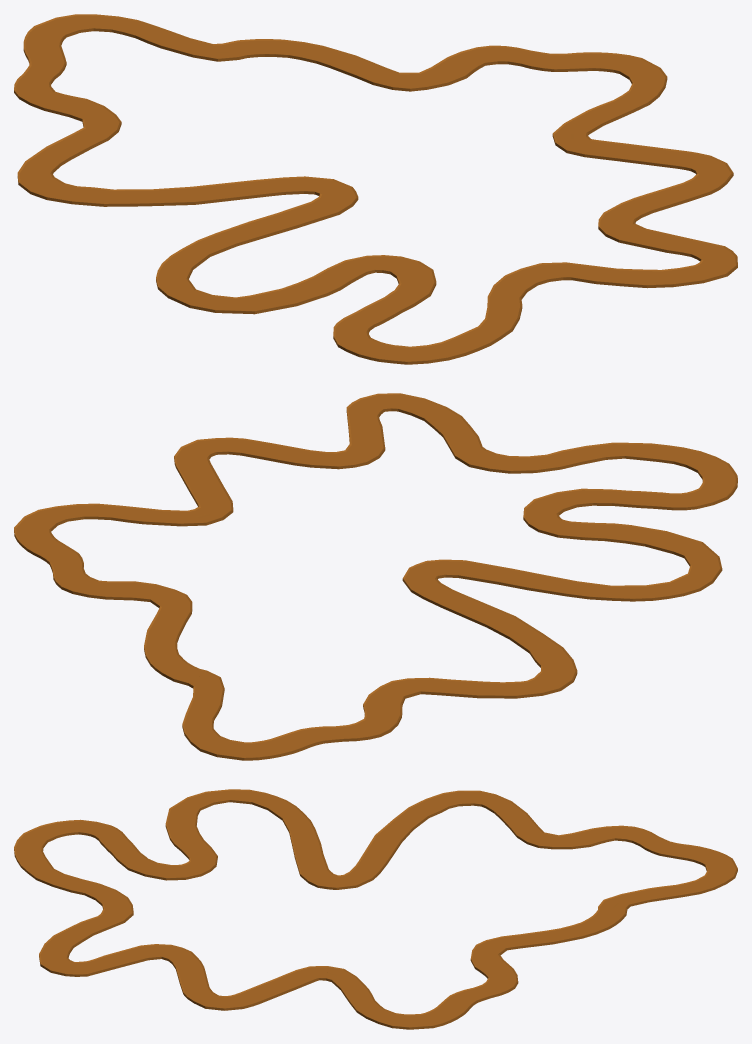
File: pista inteira.fbx
3 views of the same model, one above another, from view 1: azimuth 30°, elevation 25°; view 2: azimuth 150°, elevation 25°; view 3: azimuth 270°, elevation 25° (orthographic). The views are drawn at different scales.
Parts seen in each view (by area): view 1: pista parte 3, pista parte 1, pista parte 4, pista parte 2; view 2: pista parte 3, pista parte 1, pista parte 2, pista parte 4; view 3: pista parte 3, pista parte 1, pista parte 4, pista parte 2.
Boxes of the visible parts, box(x1,y1,x2,y2) form: pista parte 3: box(156, 187, 563, 364); pista parte 1: box(14, 14, 351, 206); pista parte 4: box(541, 136, 737, 288); pista parte 2: box(222, 39, 667, 143); pista parte 3: box(409, 442, 737, 601); pista parte 1: box(182, 568, 577, 760); pista parte 2: box(14, 503, 223, 685); pista parte 4: box(174, 393, 486, 519); pista parte 3: box(14, 789, 338, 913); pista parte 1: box(336, 790, 737, 908); pista parte 4: box(39, 913, 327, 1010); pista parte 2: box(326, 907, 627, 1029).
Size of the model in its own units: 27644 by 121 by 35490.
